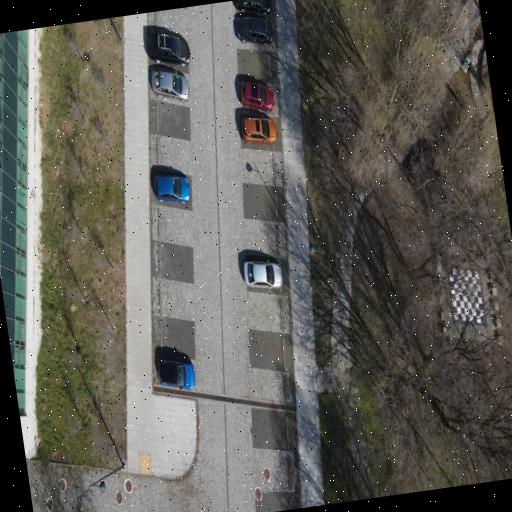person: (146, 26, 189, 65), (149, 66, 188, 101), (157, 359, 194, 390), (154, 173, 190, 203), (235, 14, 272, 43), (243, 262, 281, 288), (239, 82, 273, 111), (240, 117, 276, 144), (234, 0, 270, 13)
